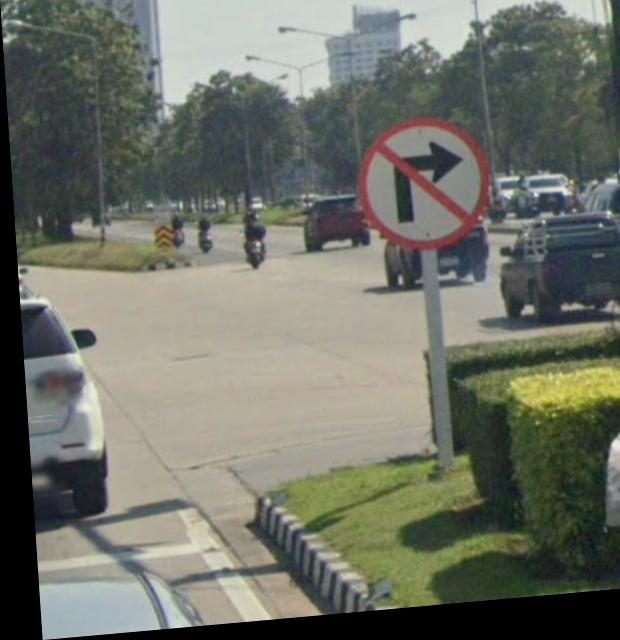not_turn_right: (354, 120, 495, 264)
